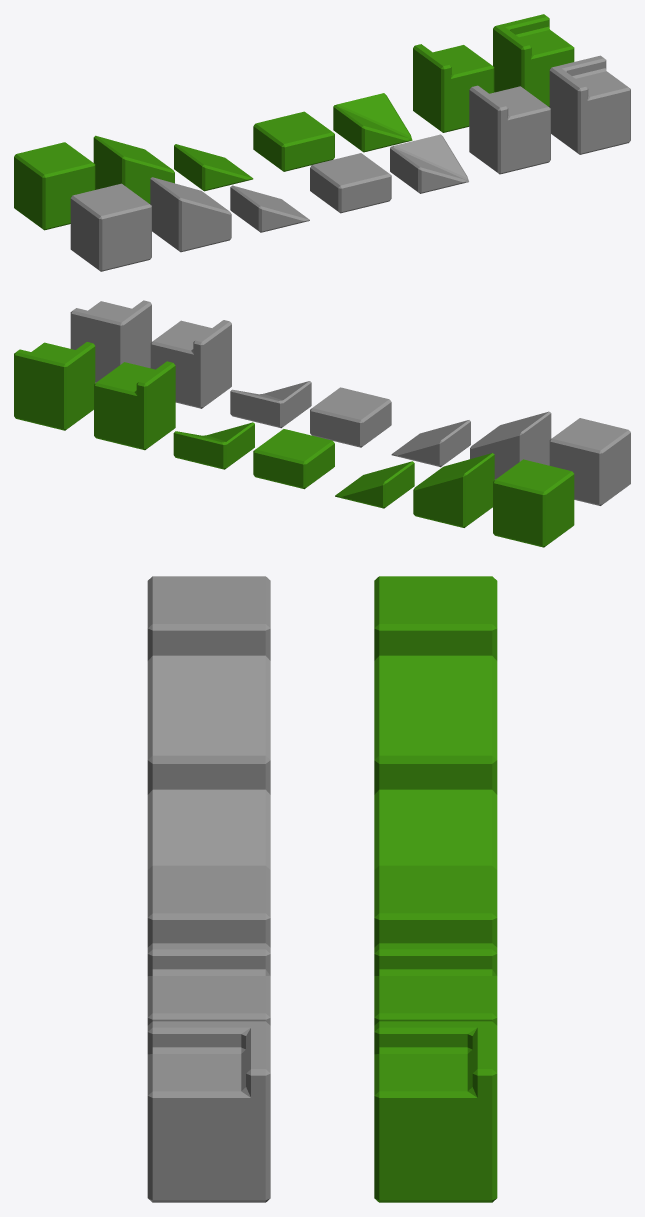
Rendered from world_blocks_ver1.glb.
3 views of the same model, one above another, from view 1: azimuth 30°, elevation 25°; view 2: azimuth 150°, elevation 25°; view 3: azimuth 270°, elevation 25° (orthographic). The views are drawn at different scales.
Parts seen in each view (by area): view 1: StoneBlockWallCorner, StoneBlockWall, StoneBlock, GrassBlockWall, GrassBlock, GrassBlockWallCorner, StoneRampTop, StoneBlockShort, GrassBlockShort, GrassRampLowerCorner, StoneRampLowerCorner, GrassRampTop (+2 smaller); view 2: GrassBlockWallCorner, GrassBlockWall, GrassBlock, StoneBlockWall, StoneBlock, StoneBlockWallCorner, GrassRampTop, GrassBlockShort, StoneBlockShort, StoneRampTop, GrassRampLowerCorner, StoneRampLowerCorner (+2 smaller); view 3: GrassBlockWallCorner, StoneBlockWallCorner, GrassRampTop, StoneRampTop, GrassBlock, StoneBlock, GrassBlockWall, StoneBlockWall, GrassBlockShort, StoneBlockShort, GrassRampBottom, StoneRampBottom.
Boxes of the visible parts, x1,y1,x2,y2 form: StoneBlockWallCorner: (549,55,630,154); StoneBlockWall: (469,85,550,174); StoneBlock: (70,183,151,271); GrassBlockWall: (413,44,494,132); GrassBlock: (14,142,95,230); GrassBlockWallCorner: (493,14,574,107); StoneRampTop: (150,177,231,252); StoneBlockShort: (310,153,391,213); GrassBlockShort: (253,111,334,171); GrassRampLowerCorner: (333,93,412,152); StoneRampLowerCorner: (390,134,468,193); GrassRampTop: (93,135,174,203); GrassBlockWallCorner: (14,342,95,430); GrassBlockWall: (94,361,175,450); GrassBlock: (493,459,574,547); StoneBlockWall: (150,320,231,408); StoneBlock: (549,418,630,505); StoneBlockWallCorner: (70,300,151,382); GrassRampTop: (413,453,494,527); GrassBlockShort: (253,429,334,489); StoneBlockShort: (310,387,391,447); StoneRampTop: (470,411,551,479); GrassRampLowerCorner: (173,422,254,469); StoneRampLowerCorner: (230,381,311,428); GrassBlockWallCorner: (374,1021,497,1202); StoneBlockWallCorner: (147,1021,270,1202); GrassRampTop: (374,655,497,794); StoneRampTop: (147,655,270,794); GrassBlock: (374,576,497,660); StoneBlock: (147,576,270,660); GrassBlockWall: (374,943,497,1025); StoneBlockWall: (147,943,270,1025); GrassBlockShort: (374,865,497,947); StoneBlockShort: (147,865,270,947); GrassRampBottom: (374,789,497,869); StoneRampBottom: (147,789,270,869).
Size of what is drawn, in the model's own units: 20 by 2.4 by 5.69.
